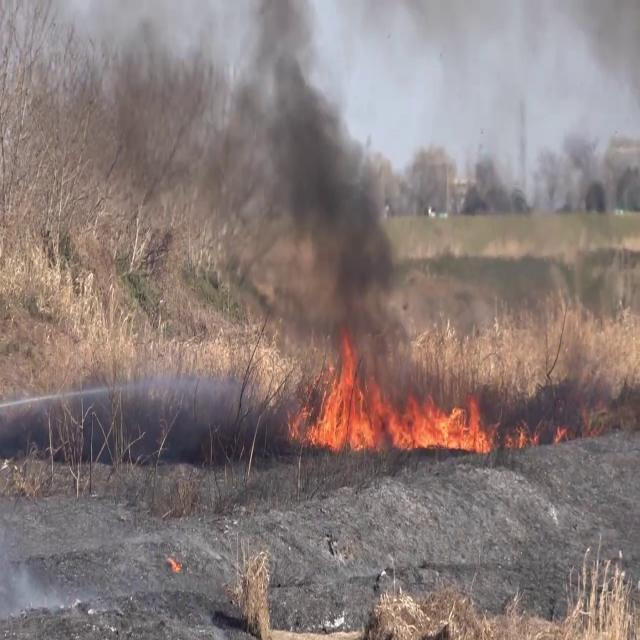Fire: (292, 336, 493, 454)
Smoke: (227, 2, 405, 360)
